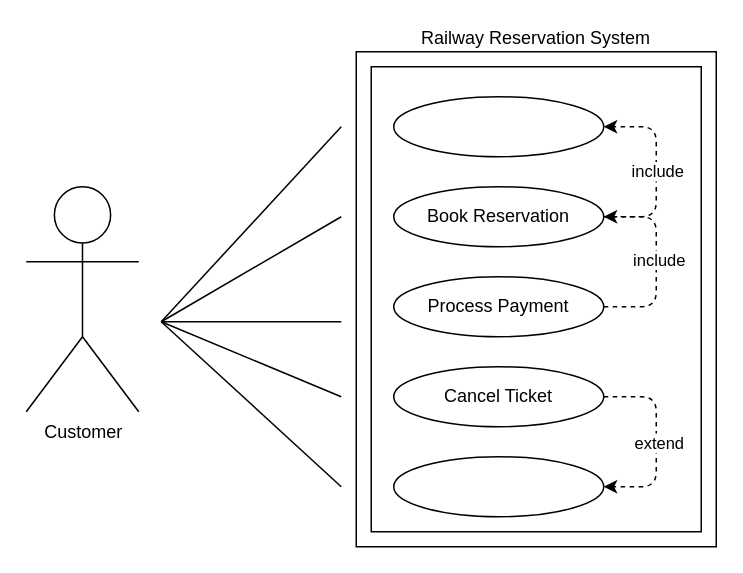
Image size: 743x573. Some labels were removed from this diagram. Each missing label, with the centre of its shape:
Check Ticket Availability: pixel 498 126
Refund Money: pixel 498 486
